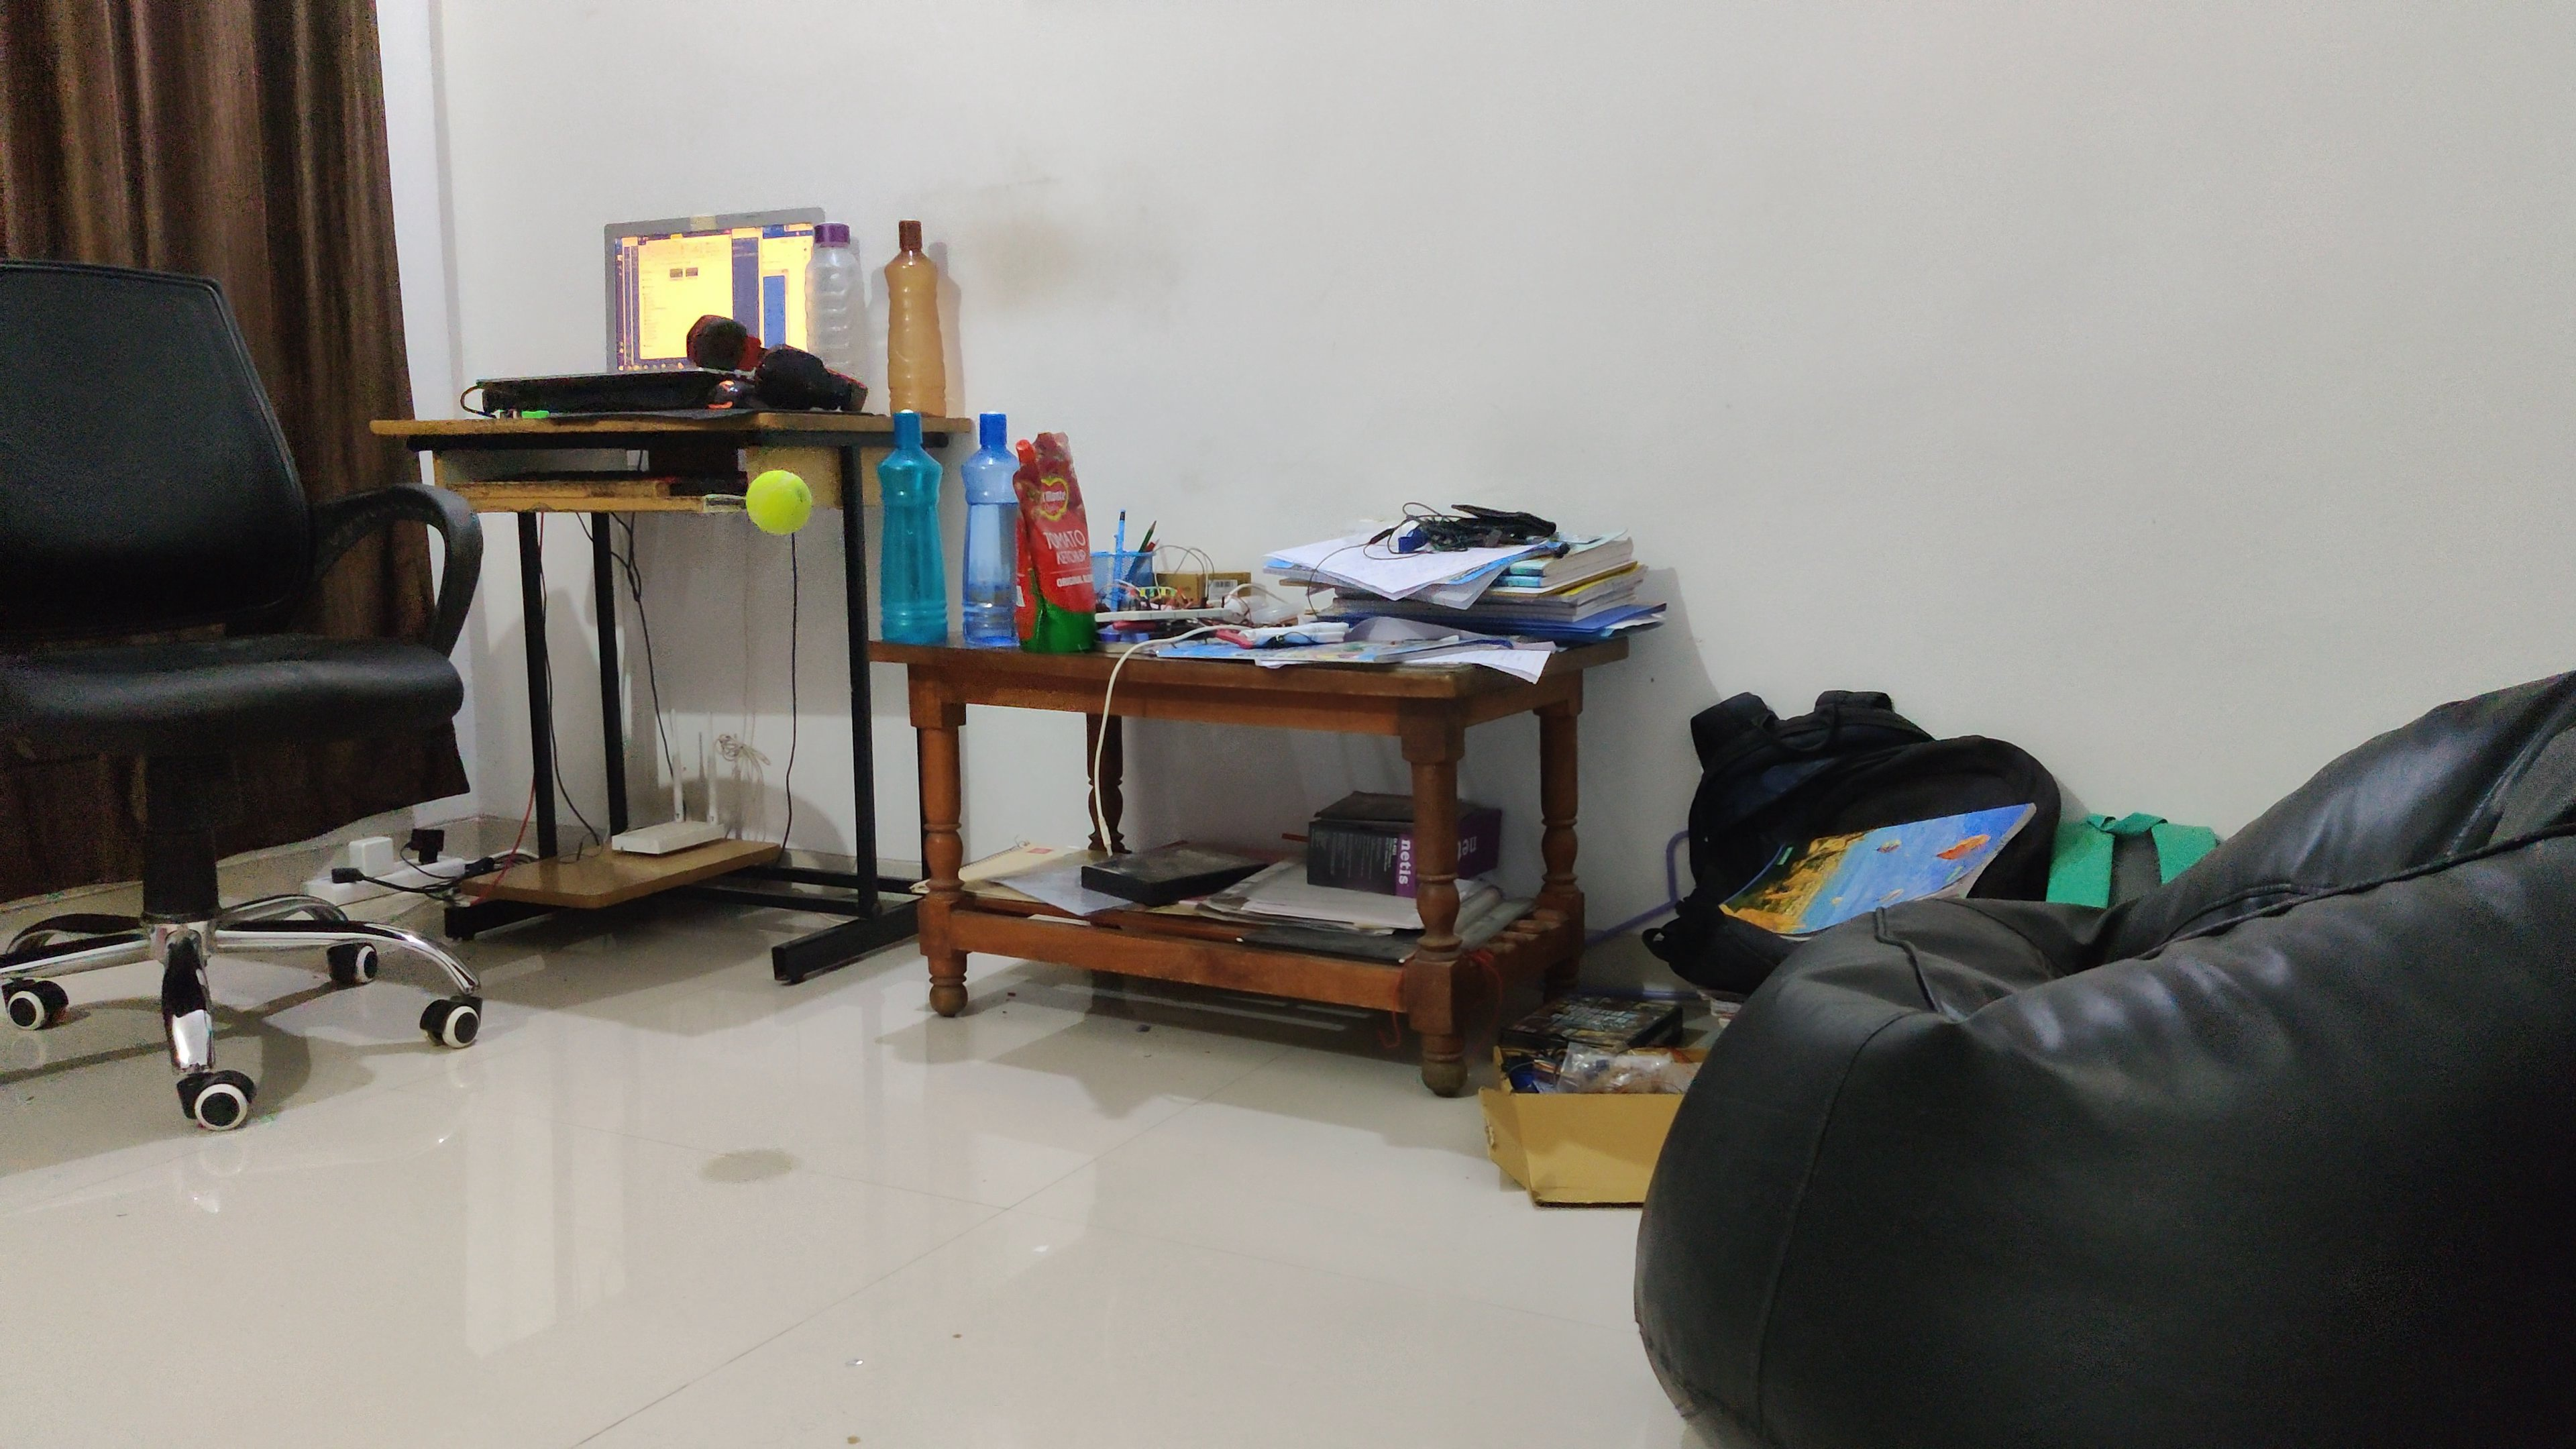Tennis-Ball: (747, 471, 812, 536)
